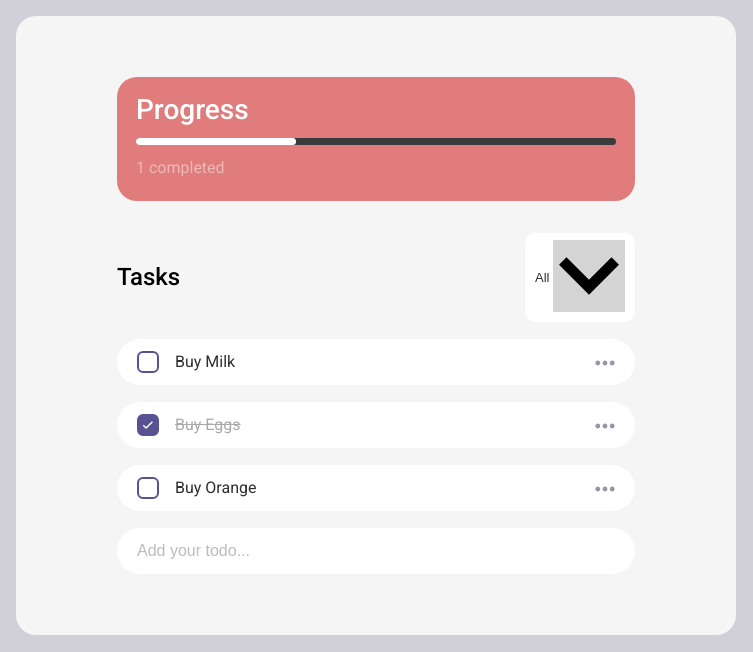
Scenario: TodoApp › can delete task
The image size is (753, 652).
Click the picture named "button" in the row of "Buy Milk" at [605, 363], box [595,360,615,366]
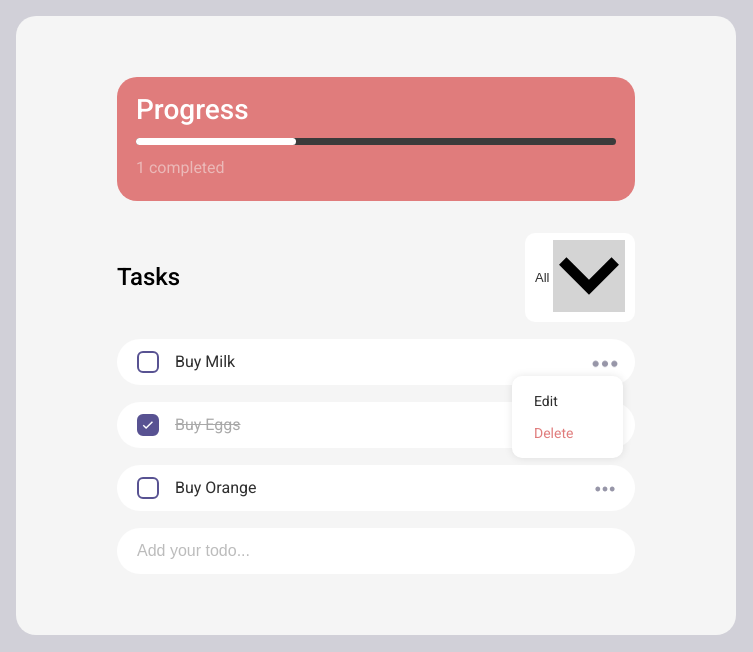
Click the list item "Delete" at [554, 433], box [534,425,574,441]
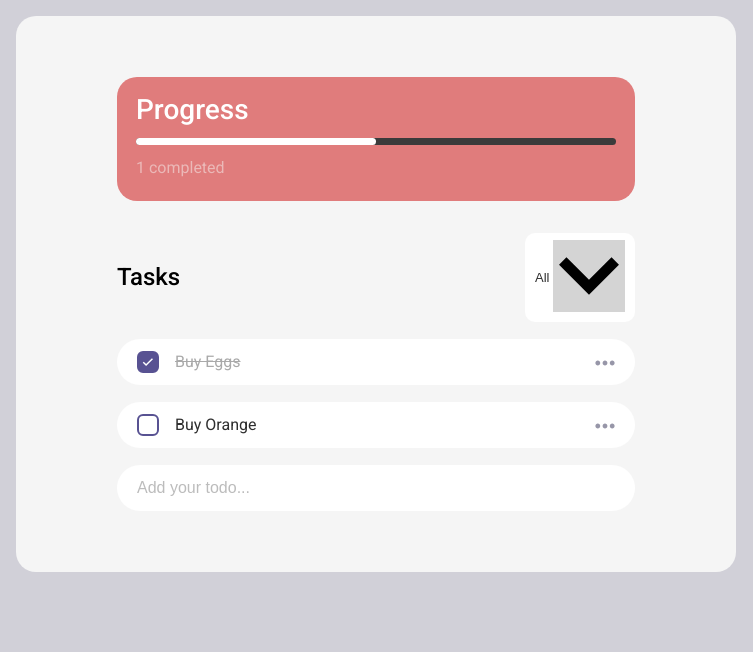
Now the number of list items is 2, box [117,339,635,385]; [117,402,635,448]
